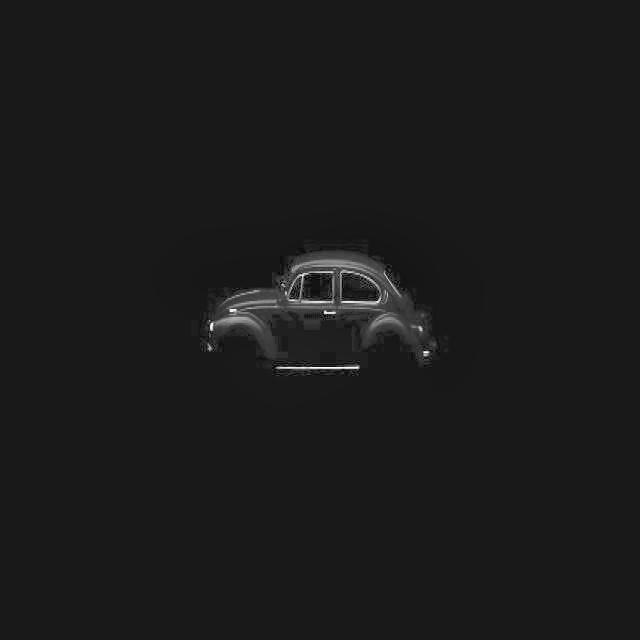carro: (211, 258, 438, 392)
